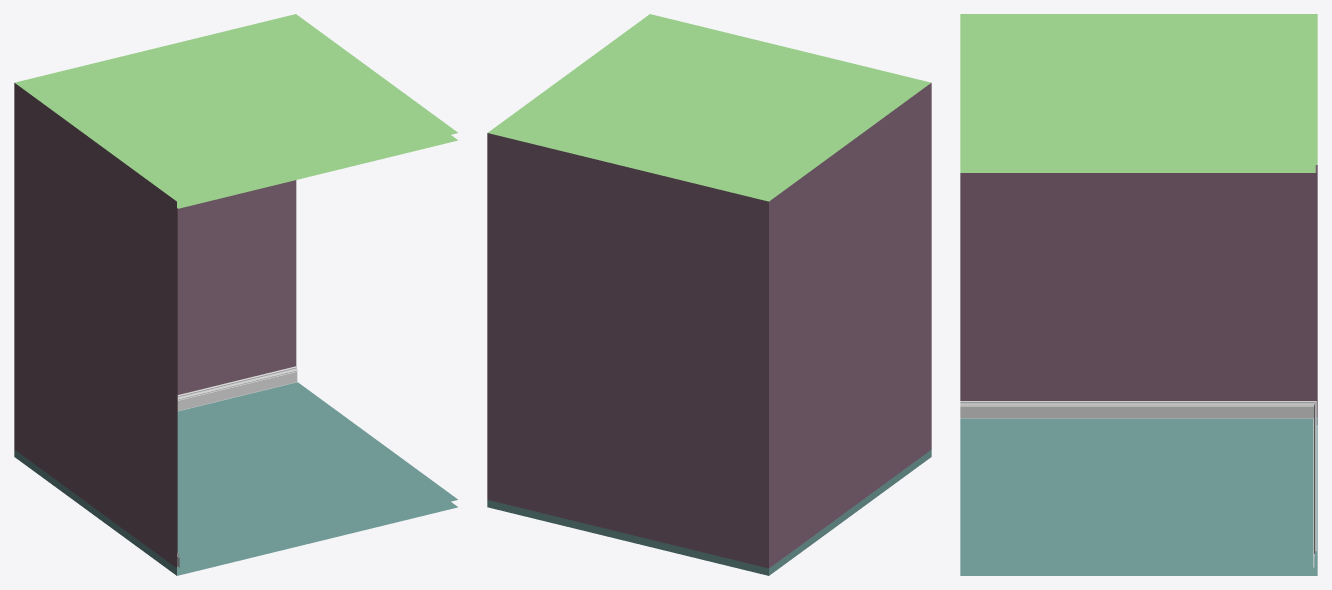
File: Wall_2x2_corner_in.fbx
The picture shows the model from 3 angles, left to right: view 1: azimuth 30°, elevation 25°; view 2: azimuth 150°, elevation 25°; view 3: azimuth 270°, elevation 25°; orthographic projection. The views are drawn at different scales.
Parts seen in each view (by area): view 1: Wall_2x2_corner_in; view 2: Wall_2x2_corner_in; view 3: Wall_2x2_corner_in.
Part boxes in pixels (x1=…): Wall_2x2_corner_in: x1=14, y1=14, x2=457, y2=575; Wall_2x2_corner_in: x1=487, y1=14, x2=931, y2=575; Wall_2x2_corner_in: x1=960, y1=14, x2=1317, y2=575.
Bounding box in the file's own units: 1.97 × 2.5 × 1.97.
